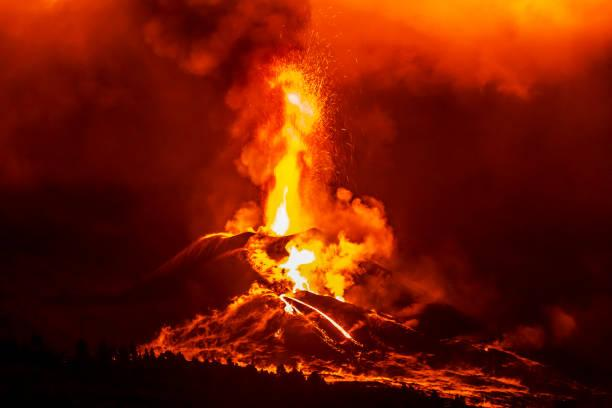Fire: (164, 39, 491, 369)
